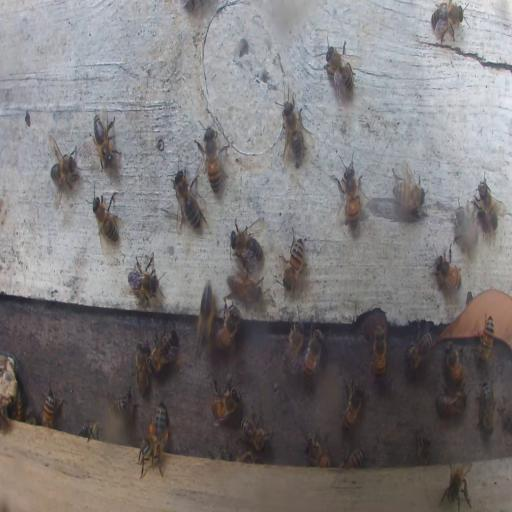nonpollenbee: (278, 84, 307, 162), (126, 252, 164, 306), (172, 168, 204, 231), (473, 173, 504, 235), (324, 38, 356, 98), (48, 138, 80, 196), (92, 110, 120, 173), (441, 460, 474, 512), (280, 230, 306, 291), (92, 192, 121, 245), (392, 170, 428, 211), (430, 2, 466, 42), (241, 406, 272, 452), (340, 157, 360, 228), (231, 219, 262, 263), (404, 324, 434, 369), (149, 324, 177, 372), (301, 326, 324, 383), (341, 379, 365, 433), (196, 281, 214, 351), (453, 203, 480, 248), (215, 300, 239, 350), (227, 270, 263, 303), (136, 435, 164, 477), (202, 128, 220, 192), (283, 320, 303, 374), (211, 385, 239, 421), (435, 253, 462, 289), (435, 388, 467, 418), (478, 381, 495, 435), (134, 339, 150, 396), (444, 344, 464, 386), (304, 436, 332, 466), (477, 315, 494, 363), (110, 385, 134, 416), (372, 328, 386, 378), (42, 388, 58, 429), (78, 420, 105, 442), (337, 448, 363, 470), (10, 389, 26, 421), (415, 432, 431, 464), (236, 450, 256, 462), (220, 445, 230, 459)
pollenbee: (150, 402, 168, 453)
